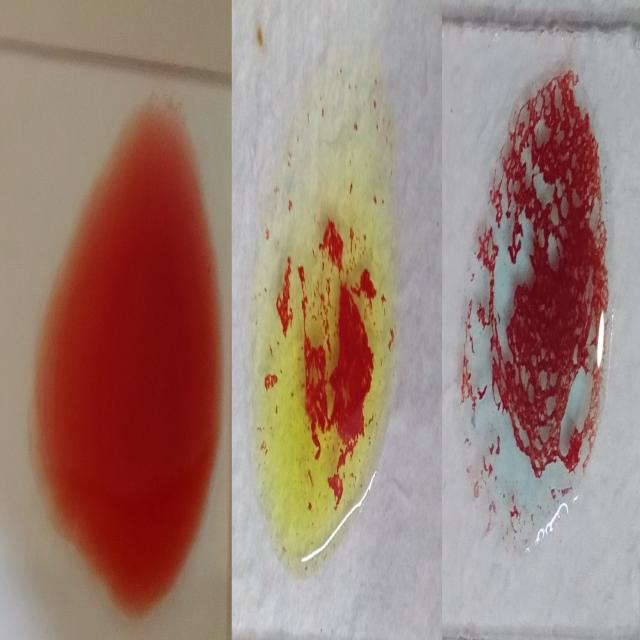A: (462, 64, 614, 552)
B: (253, 66, 396, 579)
